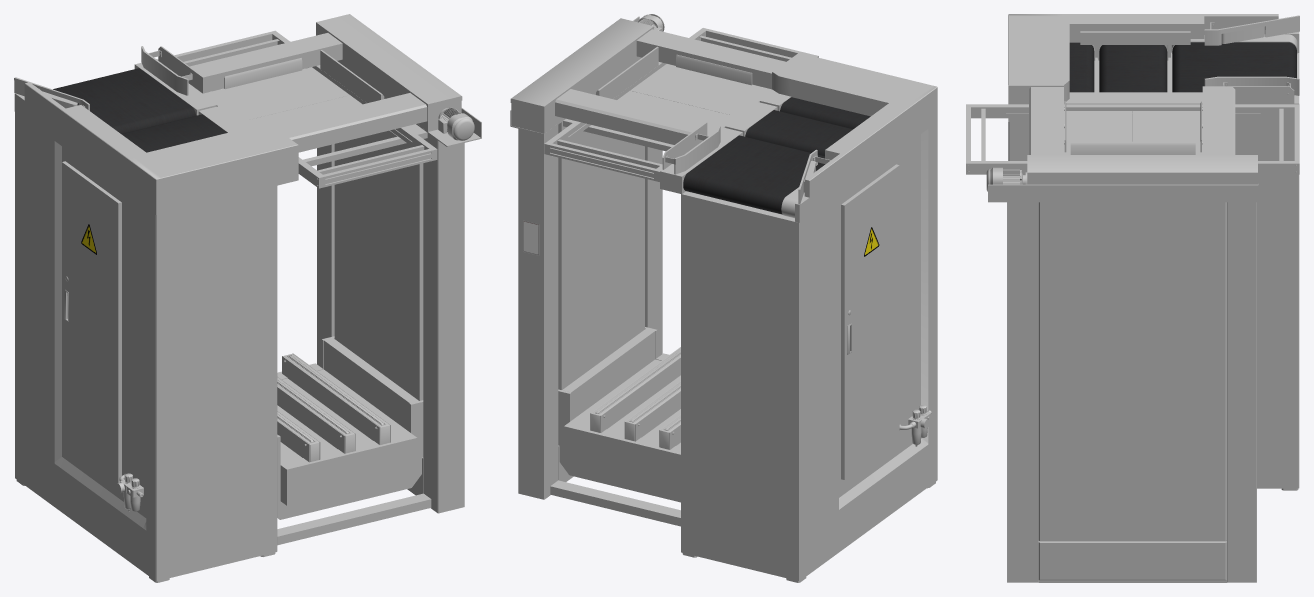
Rendered from Palletizer.fbx.
3 views of the same model, side by side, from view 1: azimuth 30°, elevation 25°; view 2: azimuth 150°, elevation 25°; view 3: azimuth 270°, elevation 25° (orthographic). The views are drawn at different scales.
Visible parts, largest first — view 1: Struct.011, PlatformMesh, StripperPlate2, StripperPlate1, Clamper2Mesh; view 2: Struct.011, PlatformMesh, StripperPlate1, StripperPlate2, Clamper1Mesh; view 3: Struct.011, StripperPlate2, StripperPlate1, Pusher, Turner.
Part boxes in pixels (x1,y1,x2,y2): Struct.011: [14, 14, 481, 582]; PlatformMesh: [277, 336, 423, 519]; StripperPlate2: [210, 67, 349, 119]; StripperPlate1: [248, 95, 362, 125]; Clamper2Mesh: [224, 58, 302, 89]; Struct.011: [510, 14, 937, 582]; PlatformMesh: [558, 327, 680, 502]; StripperPlate1: [630, 64, 765, 114]; StripperPlate2: [617, 90, 729, 130]; Clamper1Mesh: [676, 54, 752, 85]; Struct.011: [966, 14, 1299, 582]; StripperPlate2: [1132, 111, 1202, 154]; StripperPlate1: [1064, 111, 1132, 154]; Pusher: [1080, 31, 1190, 57]; Turner: [1221, 26, 1264, 43].
Size of the model in its own units: 233 by 275 by 200.
